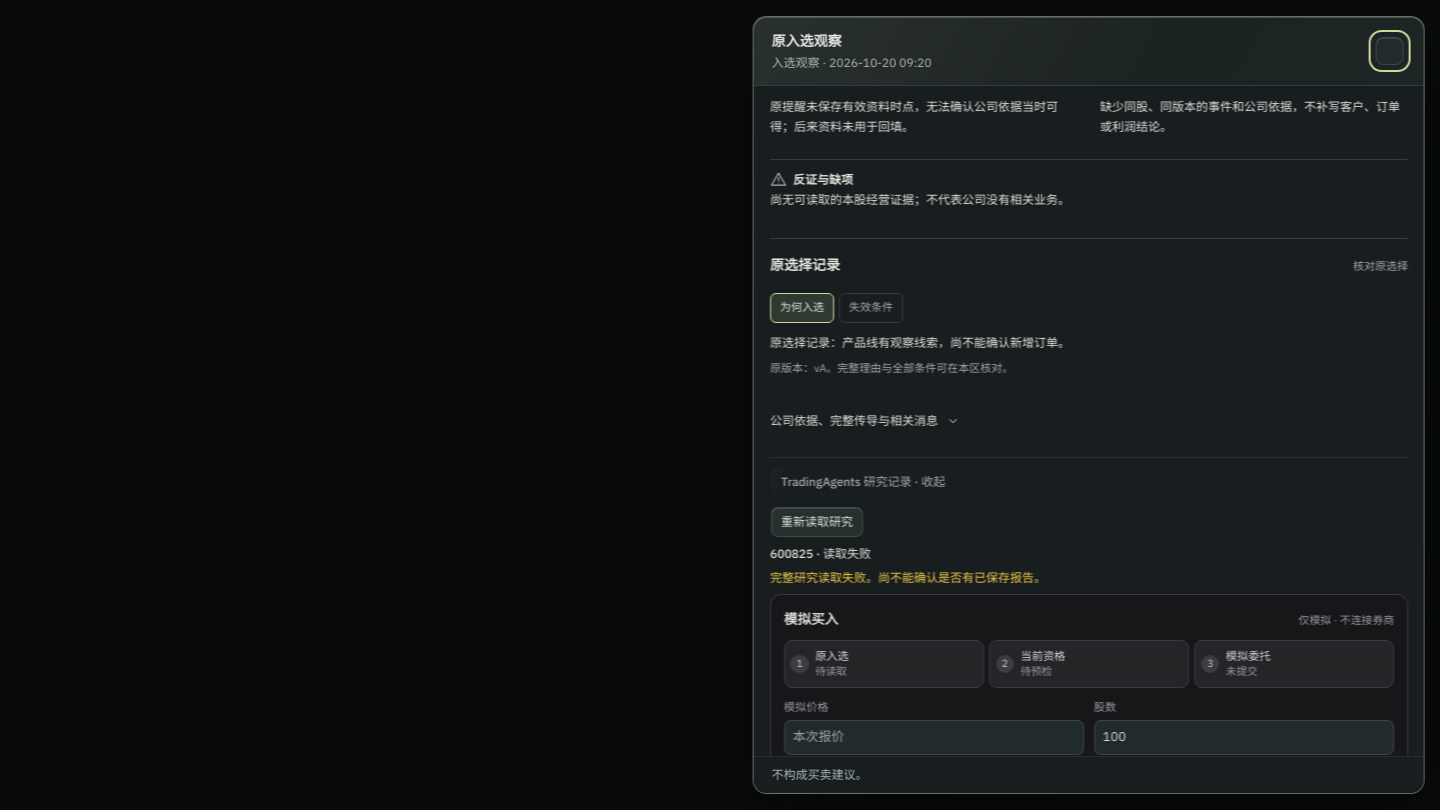
Test case: a historical notice with unknown cutoff null cannot substitute the current response clock or company status
The image size is (1440, 810).
(page scrolled)
Expected: the element named "入选决策核对台" shows "原提醒未保存有效资料时点", [769,99,1057,134]
Expected: the tab "合成事件" is not shown
Click the button "公司依据、完整传导与相关消息".
click(864, 421)  # box [769,405,959,437]
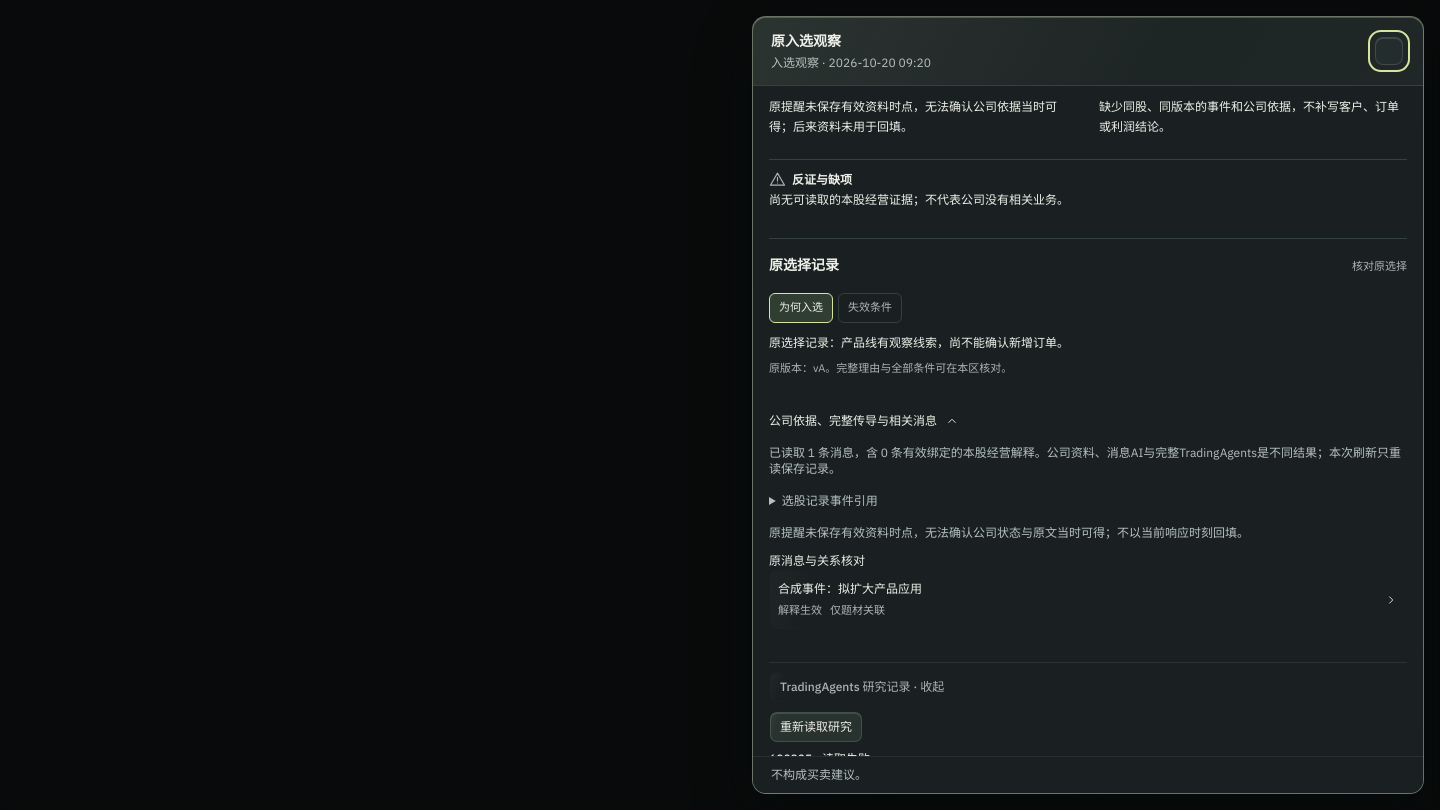
Now the text "原提醒未保存有效资料时点，无法确认公司状态与原文当时可得；不以当前响应时刻回填。" is shown, box [769,525,1249,540]
